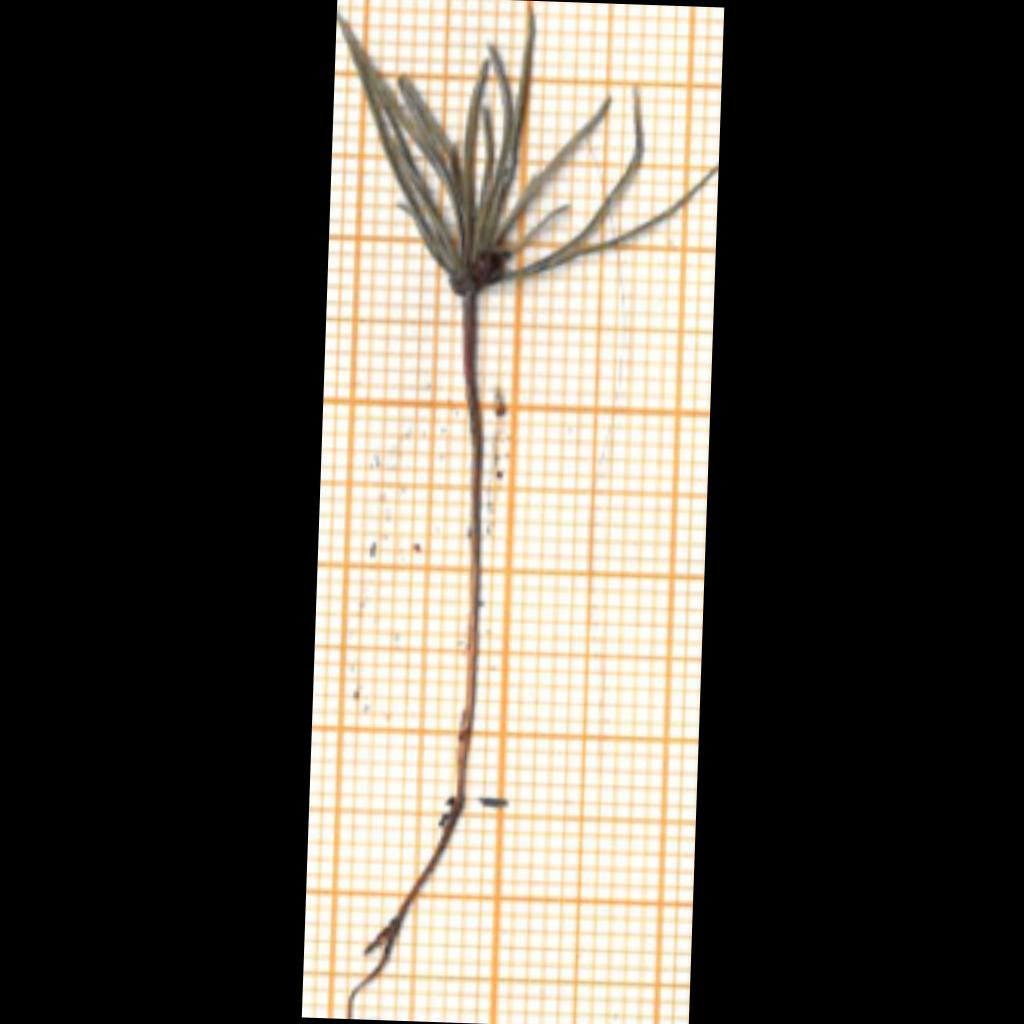flowerPinus: (336, 10, 718, 296)
rootPinus: (349, 801, 462, 1018)
stemPinus: (457, 292, 483, 808)
